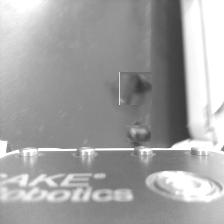Door Handle: (119, 72, 153, 105)
Lock: (127, 122, 150, 144)
